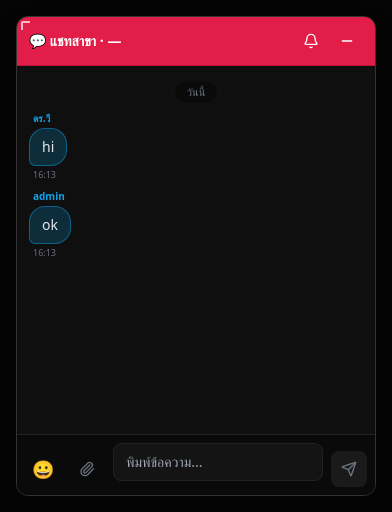
Test: V73.M1 @mention flow › M1.2 dropdown filters by partial match
The width and height of the screenshot is (392, 512).
In the text box with test id "staff-chat-composer-input": (218, 462) x1=113 y1=443 x2=323 y2=481, type "hello @ad"
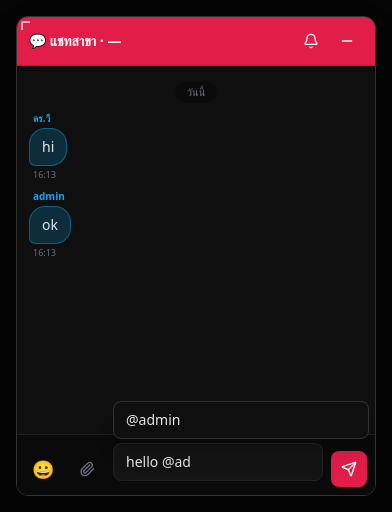
expect the button with test id "staff-chat-mention-dropdown-item-admin" is shown: met, box x1=114 y1=402 x2=368 y2=438
